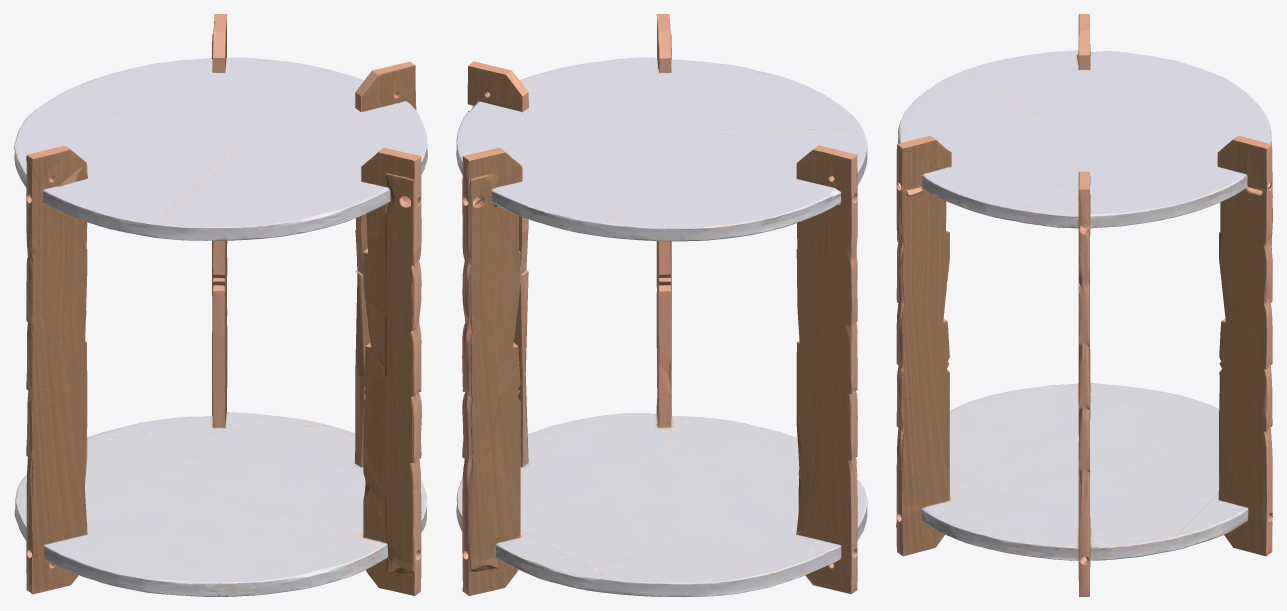
Rendered from oxmic-modern-round-side-table-home-decor-for-living-room-bed.glb.
The picture shows the model from 3 angles, left to right: view 1: azimuth 30°, elevation 25°; view 2: azimuth 150°, elevation 25°; view 3: azimuth 270°, elevation 25°; orthographic projection. The views are drawn at different scales.
Parts seen in each view (by area): view 1: Mesh_0; view 2: Mesh_0; view 3: Mesh_0.
Boxes of the visible parts, x1,y1,x2,y2 form: Mesh_0: (14, 14, 427, 596); Mesh_0: (456, 14, 867, 596); Mesh_0: (896, 14, 1272, 596).
Size of the model in its own units: 1.76 by 1.9 by 1.59.
1 material, 1 textured.
